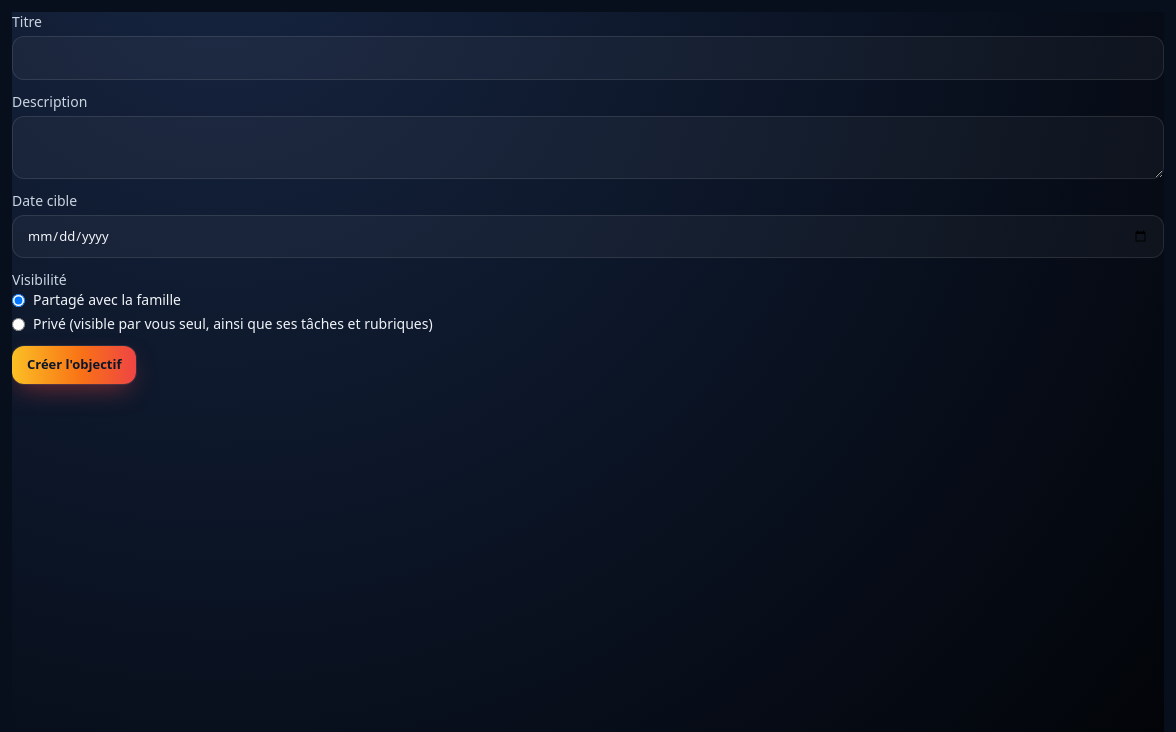
it: ObjectiveForm › affiche l'erreur si l'enregistrement échoue, au lieu de rester silencieusement bloqué
The image size is (1176, 732).
In the field labelled "Titre": point(588, 58) [12,36,1164,80], type "Grand ménage"
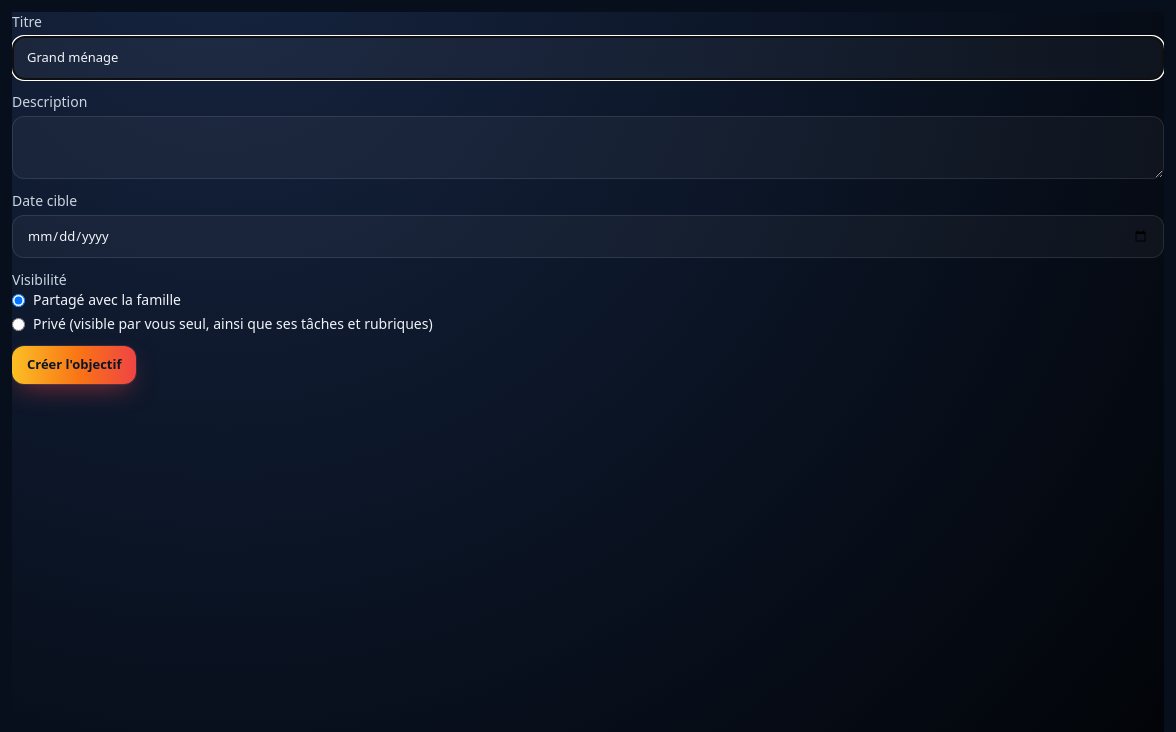
Click the button "Créer l'objectif": point(74, 365) [12,346,136,384]
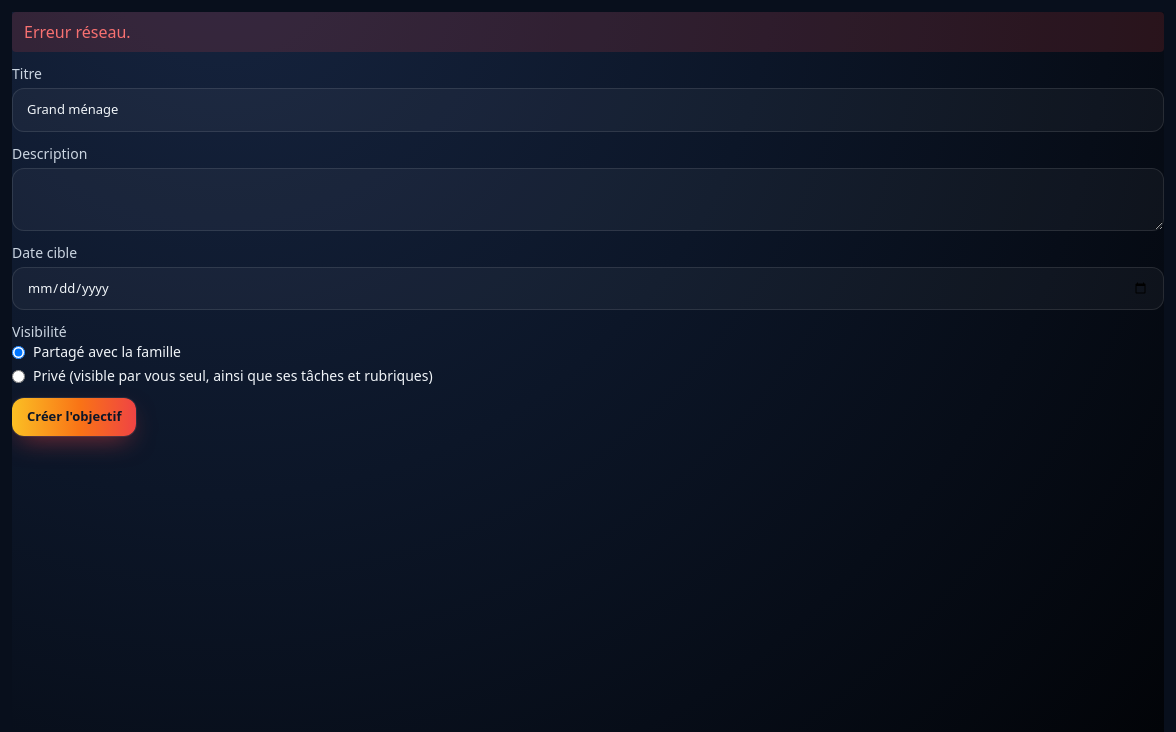
Expected: the message reads "Erreur réseau.", [24,21,131,43]
